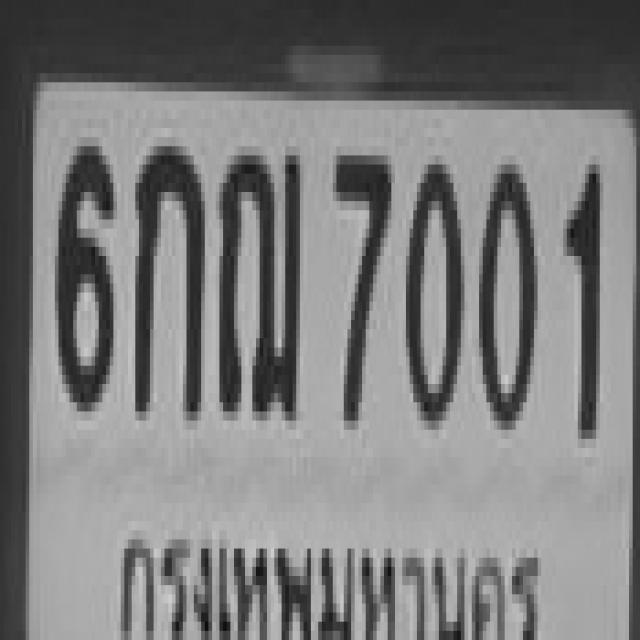0: (475, 156, 534, 420), (402, 156, 461, 420)
1: (563, 155, 596, 430)
10GorGai: (132, 137, 201, 412)
21ChorChoe: (216, 137, 300, 412)
6: (51, 137, 110, 402)
7: (332, 146, 388, 421)
Bangkok: (107, 513, 549, 640)
